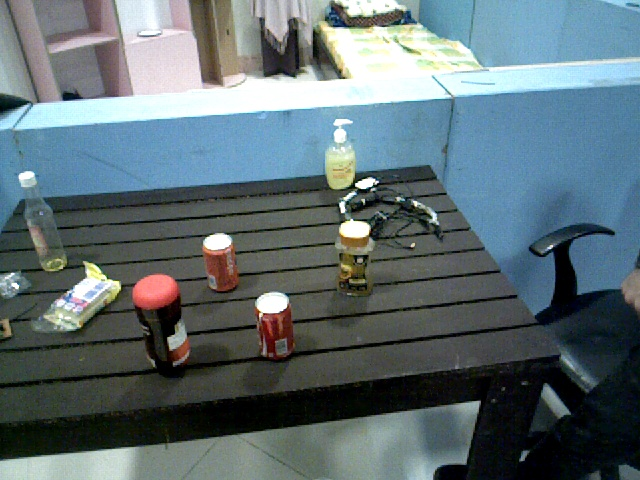coca: (257, 289, 291, 362)
coffee: (335, 220, 376, 299)
cream: (132, 271, 195, 380)
fanta: (200, 231, 240, 294)
